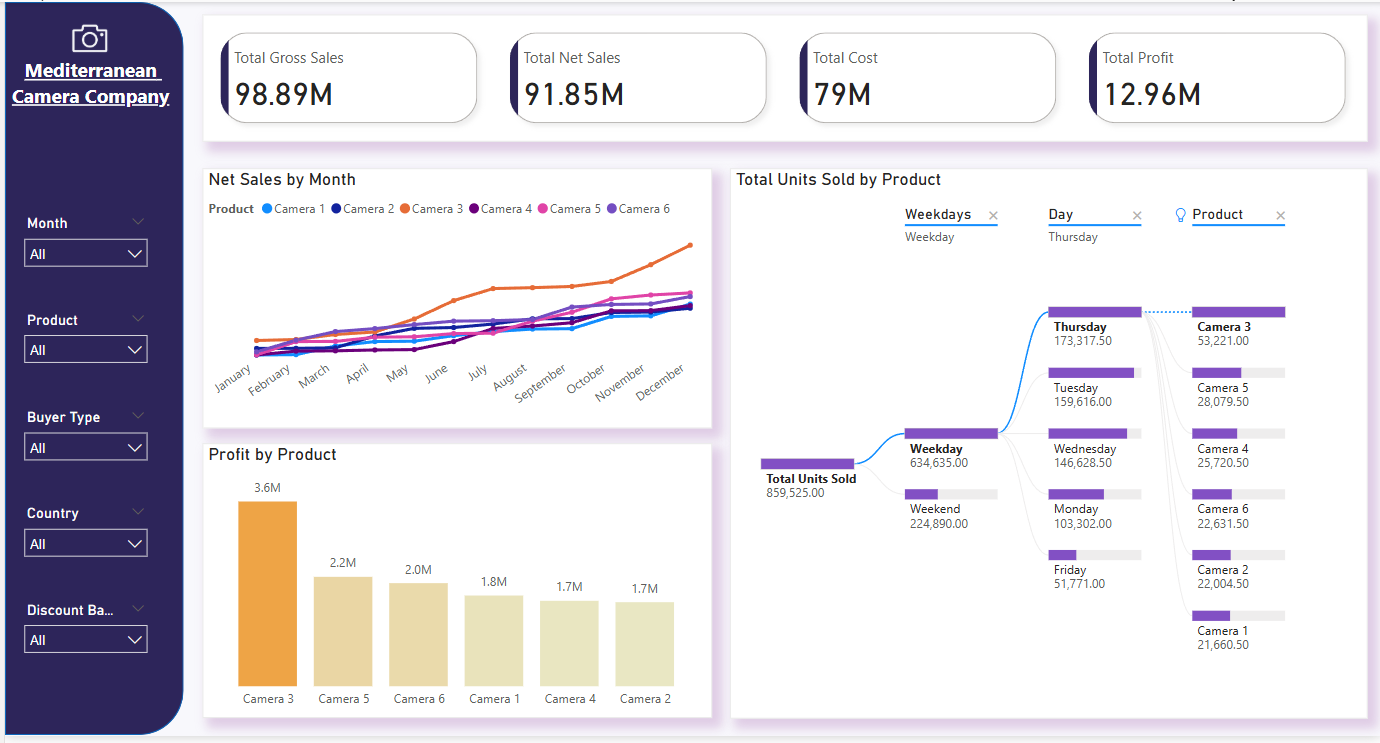

The page's visual inventory and layout, read from the dashboard file:
{"tool":"powerbi","page":{"name":"Detailed Analysis","canvas":[1350,720],"ordinal":1},"visuals":[{"type":"shape","box":[0,0,175.4,719.9],"z":0},{"type":"cardVisual","fields":{"Data":["Measure_.Total Gross Sales","Measure_.Total Net Sales","Measure_.Total Cost","Measure_.Total Profit"]},"box":[193.8,12.3,1143,125.1],"z":1000},{"type":"lineChart","title":"Net Sales by Month","fields":{"Category":["Calendar.Date.Variation.Date Hierarchy.Month"],"Y":["Measure_.Net Sales YTD"],"Series":["Mediterranean Cameras Company.Product"]},"box":[193.8,163.1,500.4,255.1],"z":2000},{"type":"columnChart","title":"Profit by Product","fields":{"Y":["Measure_.Total Profit"],"Category":["Mediterranean Cameras Company.Product"]},"box":[193.8,432.9,500.4,269.8],"z":5000},{"type":"decompositionTreeVisual","title":"Total Units Sold by Product","fields":{"Analyze":["Measure_.Total Units Sold"],"ExplainBy":["Calendar.Weekday - Weekend","Calendar.Day Name","Mediterranean Cameras Company.Product"]},"box":[711.3,163.1,625.5,539.6],"z":6000},{"type":"slicer","fields":{"Values":["Calendar.Date.Variation.Date Hierarchy.Month"]},"box":[8.6,203.6,141,82.2],"z":8000},{"type":"slicer","fields":{"Values":["Mediterranean Cameras Company.Buyer Type"]},"box":[8.6,393.1,141,82.2],"z":9000},{"type":"slicer","fields":{"Values":["Mediterranean Cameras Company.Discount Band"]},"box":[8.6,582.5,141,82.2],"z":10000},{"type":"slicer","fields":{"Values":["Mediterranean Cameras Company.Country"]},"box":[8.6,487.8,141,82.2],"z":11000},{"type":"slicer","fields":{"Values":["Mediterranean Cameras Company.Product"]},"box":[8.6,298.3,141,82.2],"z":12000},{"type":"image","box":[59.2,12.3,49.1,49.1],"z":13000},{"type":"textbox","box":[0.9,49.1,165.6,92],"z":14000}]}

Visuals, with their boxes in screenshot pixels (x1, y1, x2, y2), scaled from the page's 1350x720 canvas onto the 1380x743 screenshot:
shape: detection(0, 0, 179, 742)
cardVisual - Measure_.Total Gross Sales x Measure_.Total Net Sales: detection(198, 13, 1367, 142)
"Net Sales by Month" lineChart: detection(198, 168, 710, 432)
"Profit by Product" columnChart: detection(198, 447, 710, 725)
"Total Units Sold by Product" decompositionTreeVisual: detection(727, 168, 1367, 725)
slicer - Calendar.Date.Variation.Date Hierarchy.Month: detection(9, 210, 153, 295)
slicer - Mediterranean Cameras Company.Buyer Type: detection(9, 406, 153, 490)
slicer - Mediterranean Cameras Company.Discount Band: detection(9, 601, 153, 686)
slicer - Mediterranean Cameras Company.Country: detection(9, 503, 153, 588)
slicer - Mediterranean Cameras Company.Product: detection(9, 308, 153, 393)
image: detection(61, 13, 111, 63)
textbox: detection(1, 51, 170, 146)
